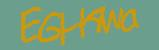A: (77, 5, 105, 32)
E: (20, 7, 41, 41)
G: (37, 11, 64, 42)
H: (60, 8, 84, 44)
a: (119, 9, 138, 31)
w: (100, 8, 124, 32)
